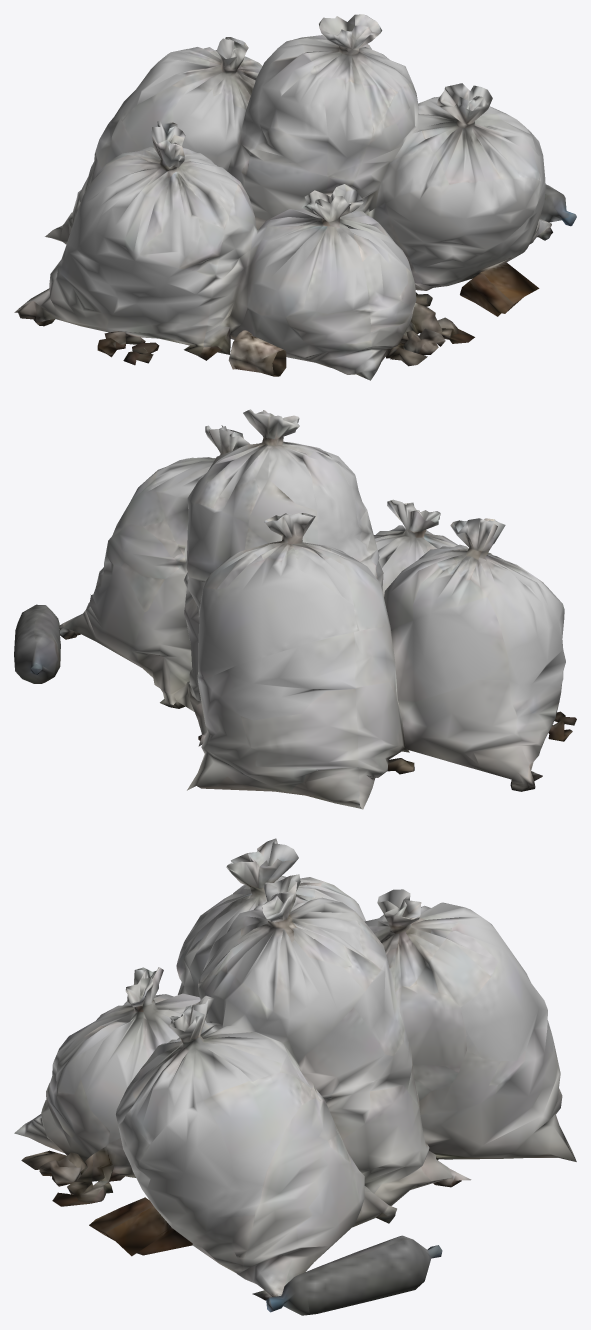
Rendered from veh-j-trash.glb.
3 views of the same model, one above another, from view 1: azimuth 30°, elevation 25°; view 2: azimuth 150°, elevation 25°; view 3: azimuth 270°, elevation 25° (orthographic). The views are drawn at different scales.
Visible parts, largest first — view 1: tripo_node_94ca6c5a-36f0-4260-a09f-6a7b81e76813; view 2: tripo_node_94ca6c5a-36f0-4260-a09f-6a7b81e76813; view 3: tripo_node_94ca6c5a-36f0-4260-a09f-6a7b81e76813.
Boxes of the visible parts, x1=… form: tripo_node_94ca6c5a-36f0-4260-a09f-6a7b81e76813: x1=14, y1=14, x2=576, y2=380; tripo_node_94ca6c5a-36f0-4260-a09f-6a7b81e76813: x1=14, y1=409, x2=576, y2=809; tripo_node_94ca6c5a-36f0-4260-a09f-6a7b81e76813: x1=14, y1=838, x2=576, y2=1315.
Size of the model in its own units: 0.9496 by 0.4517 by 0.7557.
1 material, 1 textured.
